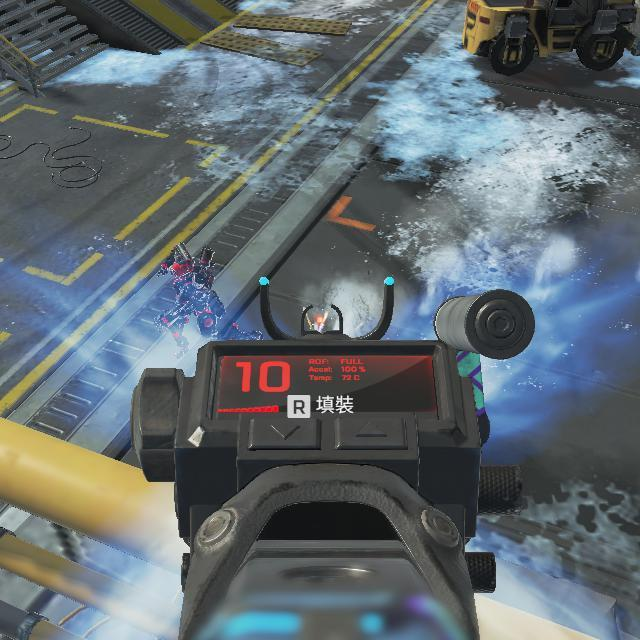avatar: (154, 241, 229, 340)
